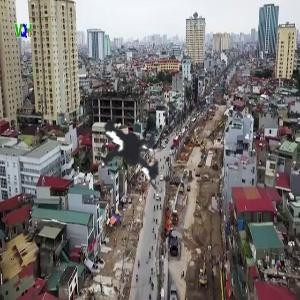drone: (10, 67, 225, 282)
